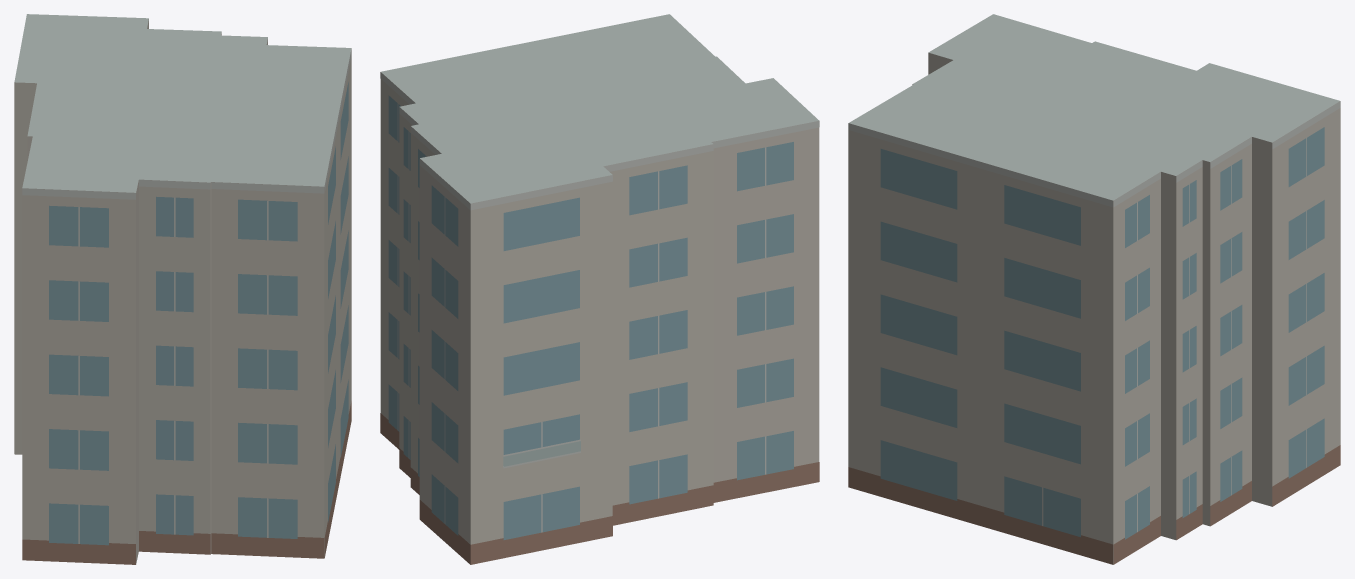
File: survey-upis-32928149.glb
The picture shows the model from 3 angles, left to right: view 1: azimuth 30°, elevation 25°; view 2: azimuth 150°, elevation 25°; view 3: azimuth 270°, elevation 25°; orthographic projection. The views are drawn at different scales.
Parts seen in each view (by area): view 1: survey-upis-32928149.tmp; view 2: survey-upis-32928149.tmp; view 3: survey-upis-32928149.tmp.
Boxes of the visible parts, x1,y1,x2,y2 form: survey-upis-32928149.tmp: (14, 14, 351, 564); survey-upis-32928149.tmp: (380, 14, 819, 564); survey-upis-32928149.tmp: (848, 14, 1340, 564).
Bounding box in the file's own units: 14.3 × 13 × 15.93.
